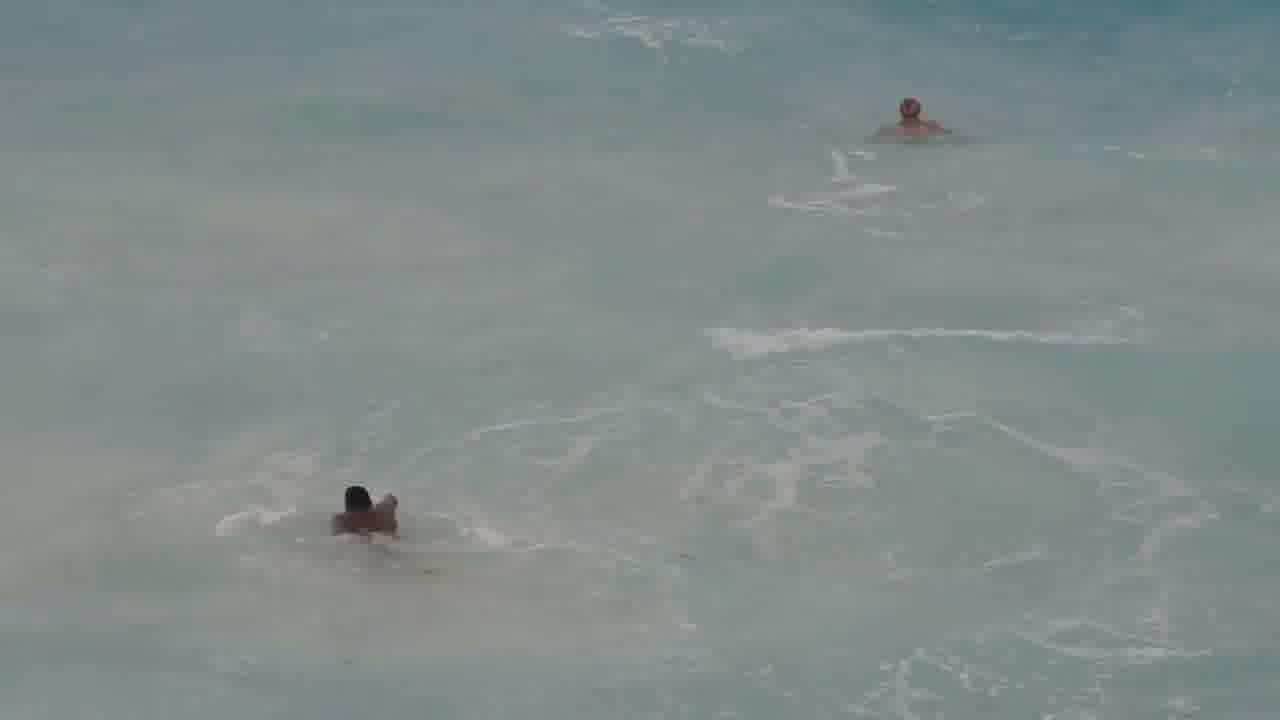swimmer: (318, 467, 414, 552), (868, 86, 951, 160)
